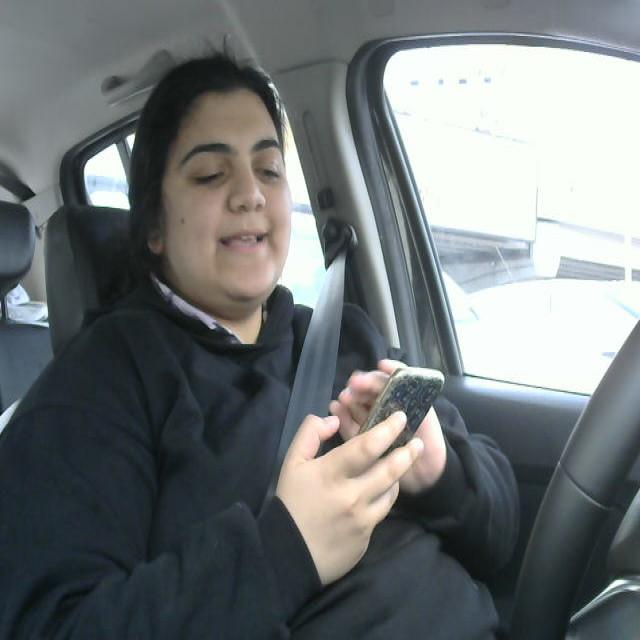mobile use: (353, 364, 449, 463)
